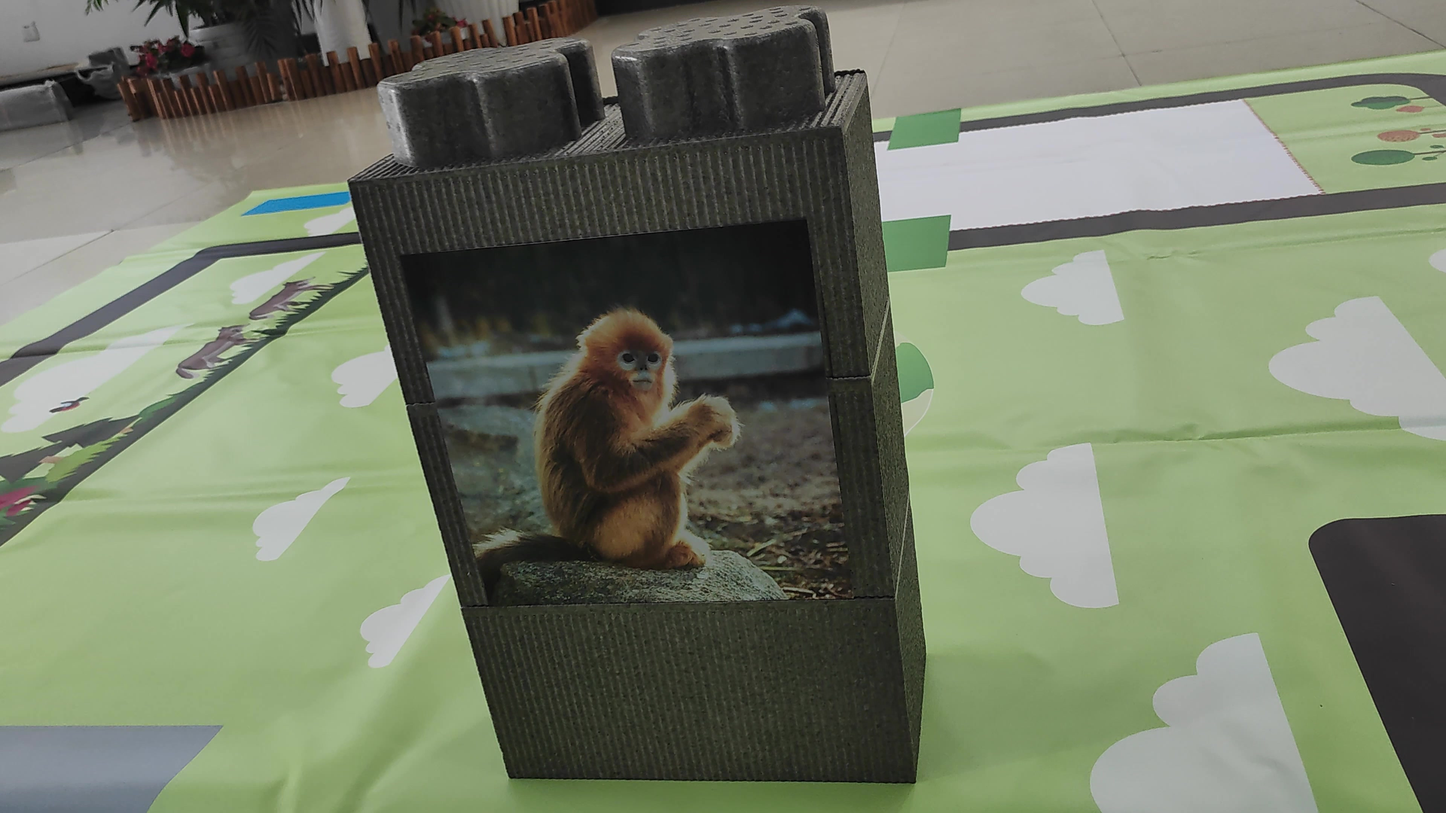monkey: (469, 268, 796, 615)
